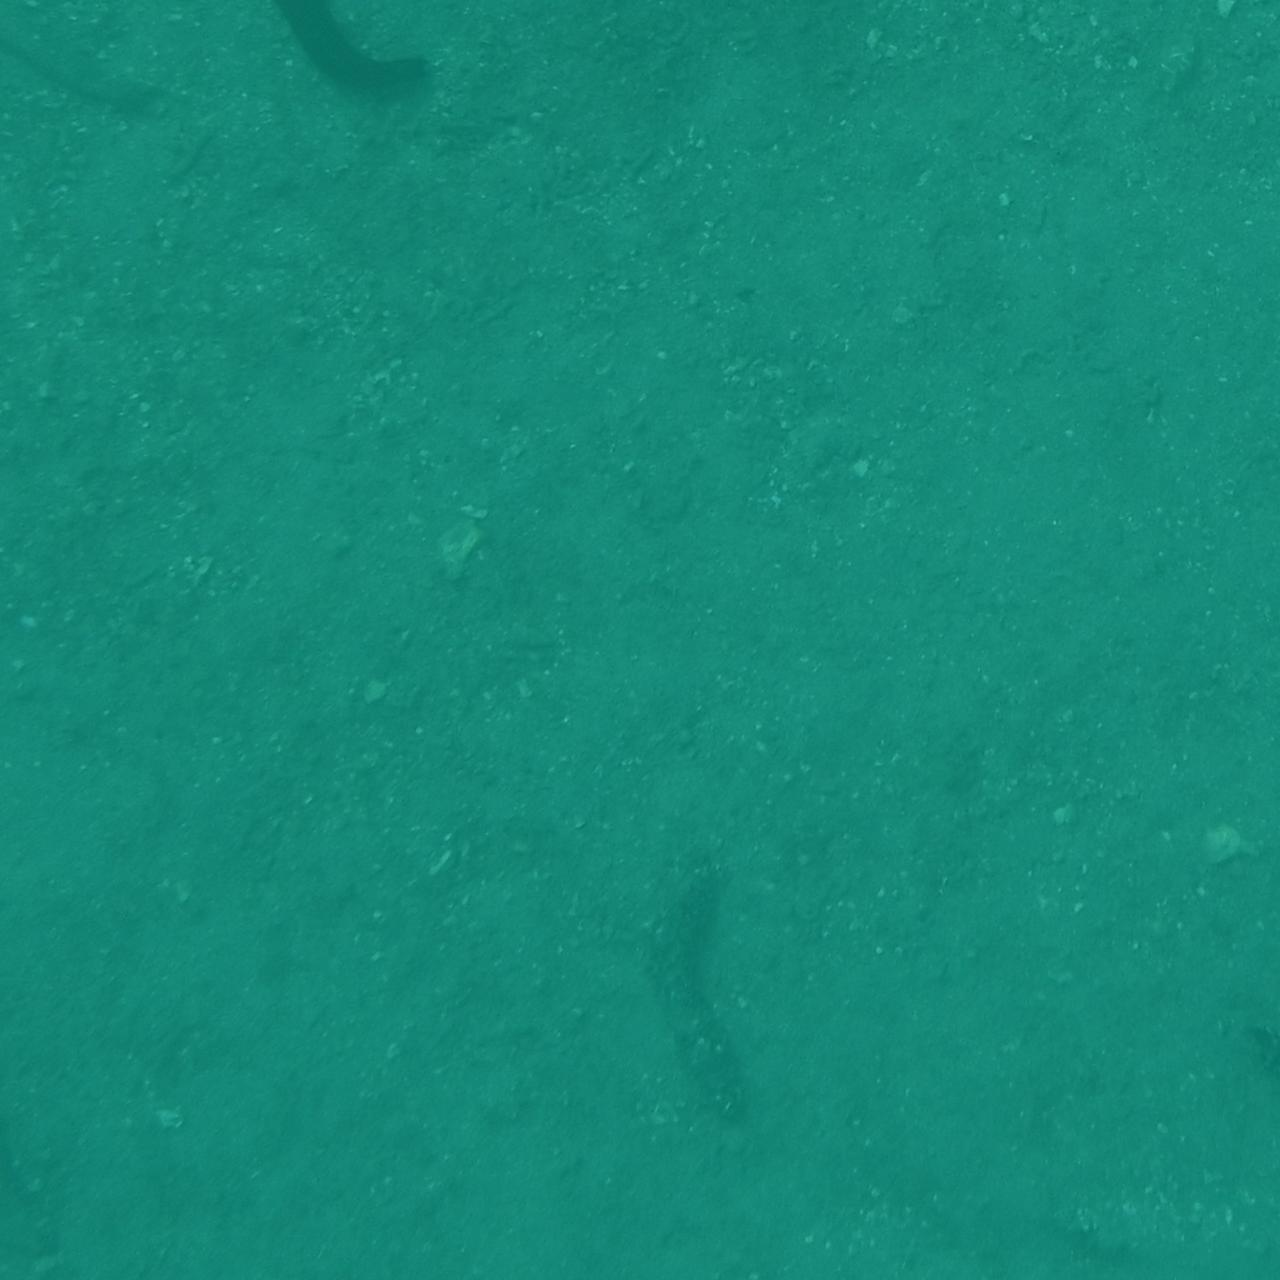Holothuria tubulosa: (625, 847, 779, 1139), (0, 954, 182, 1121), (0, 670, 98, 919), (0, 0, 182, 132), (239, 0, 447, 105), (0, 967, 66, 1280), (1175, 846, 1280, 1032), (1175, 990, 1280, 1172), (0, 581, 70, 832), (567, 0, 837, 62), (1124, 1196, 1280, 1280), (0, 1177, 107, 1280), (135, 1189, 247, 1280)
